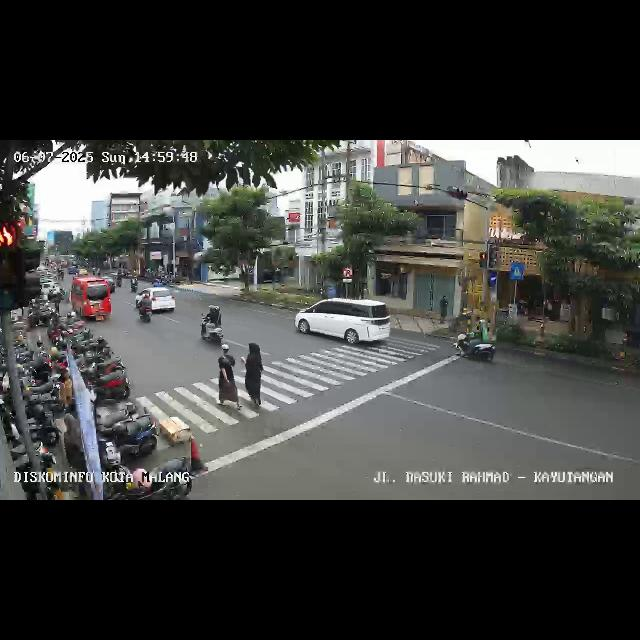car: (296, 296, 392, 349), (70, 276, 112, 322), (138, 286, 176, 318)
motorcycle: (454, 316, 496, 364), (199, 302, 225, 346), (136, 290, 158, 322), (128, 276, 138, 292)
person: (242, 340, 266, 410), (215, 343, 235, 405)
